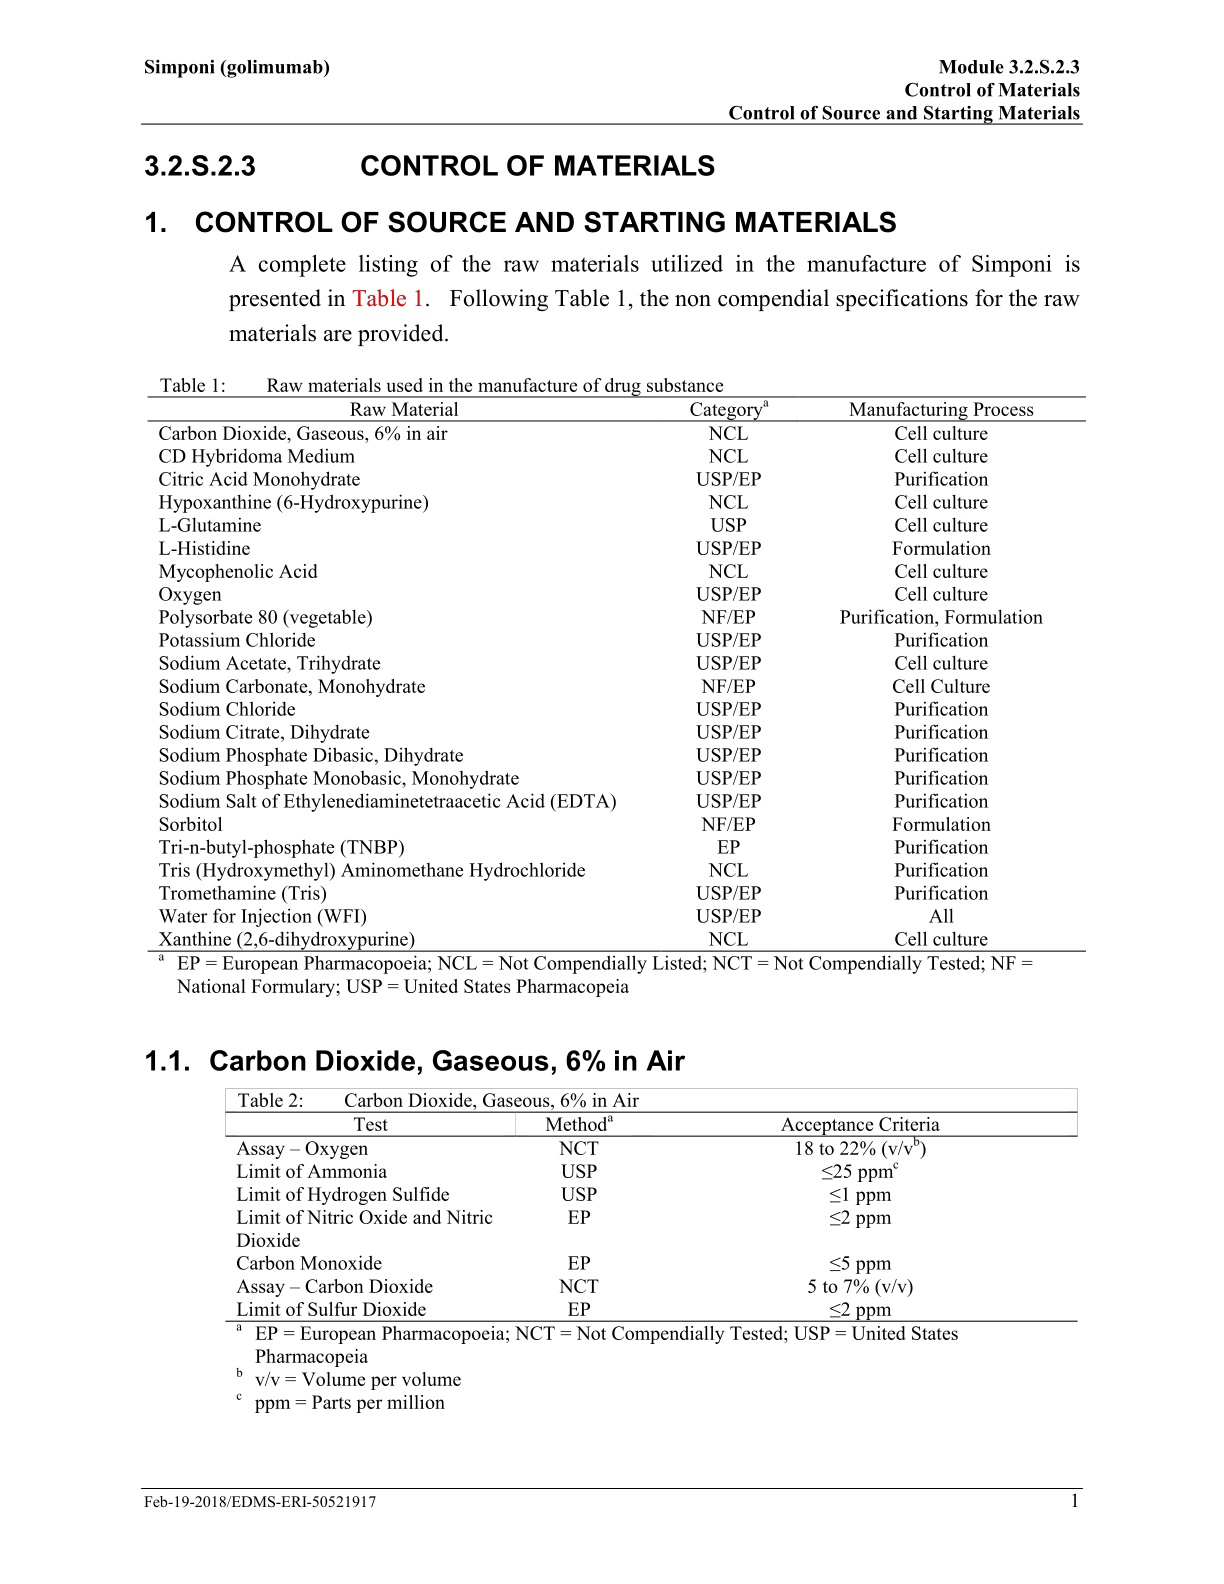partial_lined: (147, 395, 1085, 953)
partial_lined_merged_cells: (226, 1086, 1077, 1323)
